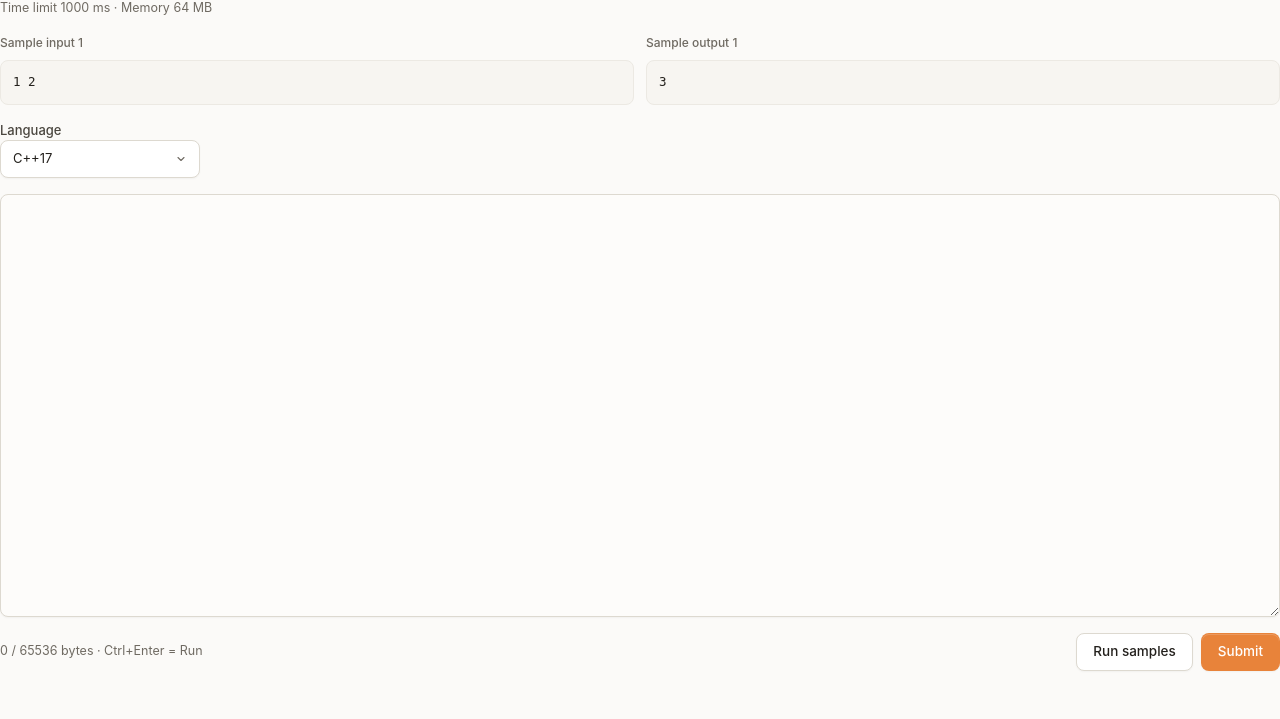
Scenario: CodingPane › empty code is blocked and API error is shown
Click the button "Run samples".
click(1135, 652)  # box [1076, 633, 1193, 671]
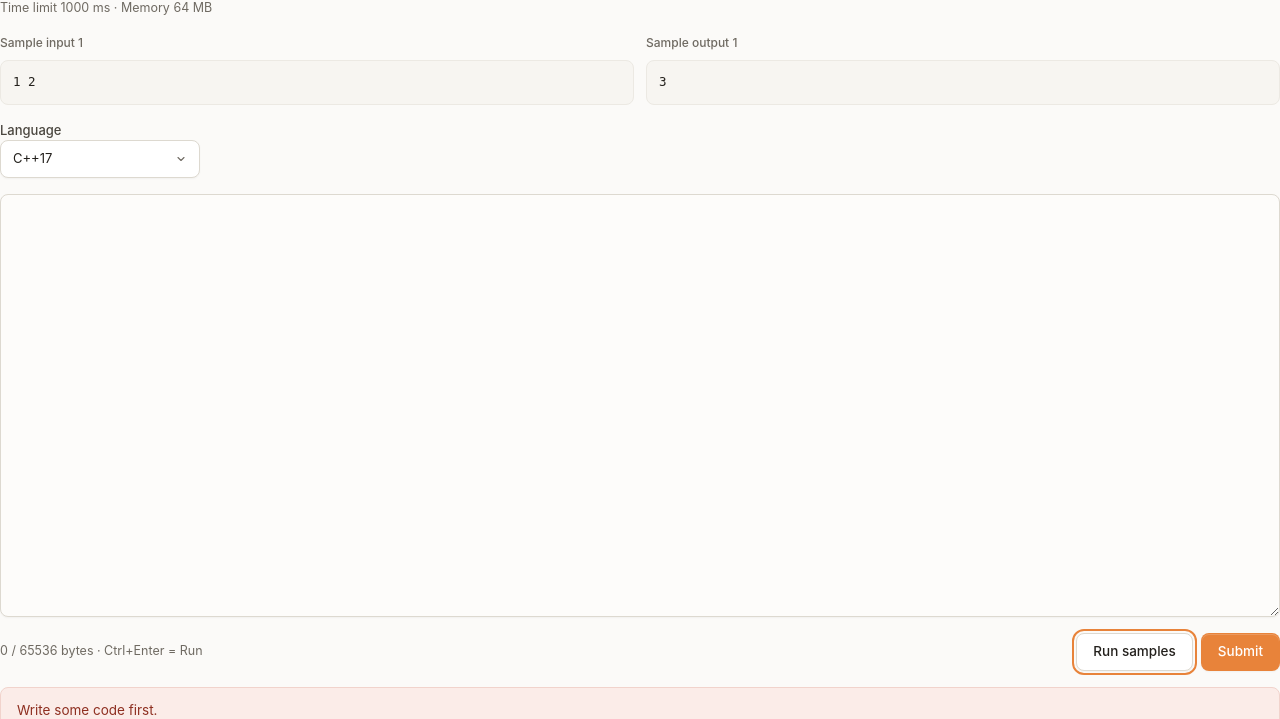
Check: the message shows "Write some code", box [17, 702, 158, 718]
Type "y" into the text box named "Code editor".
click(640, 405); type("y")  # box [0, 194, 1279, 617]
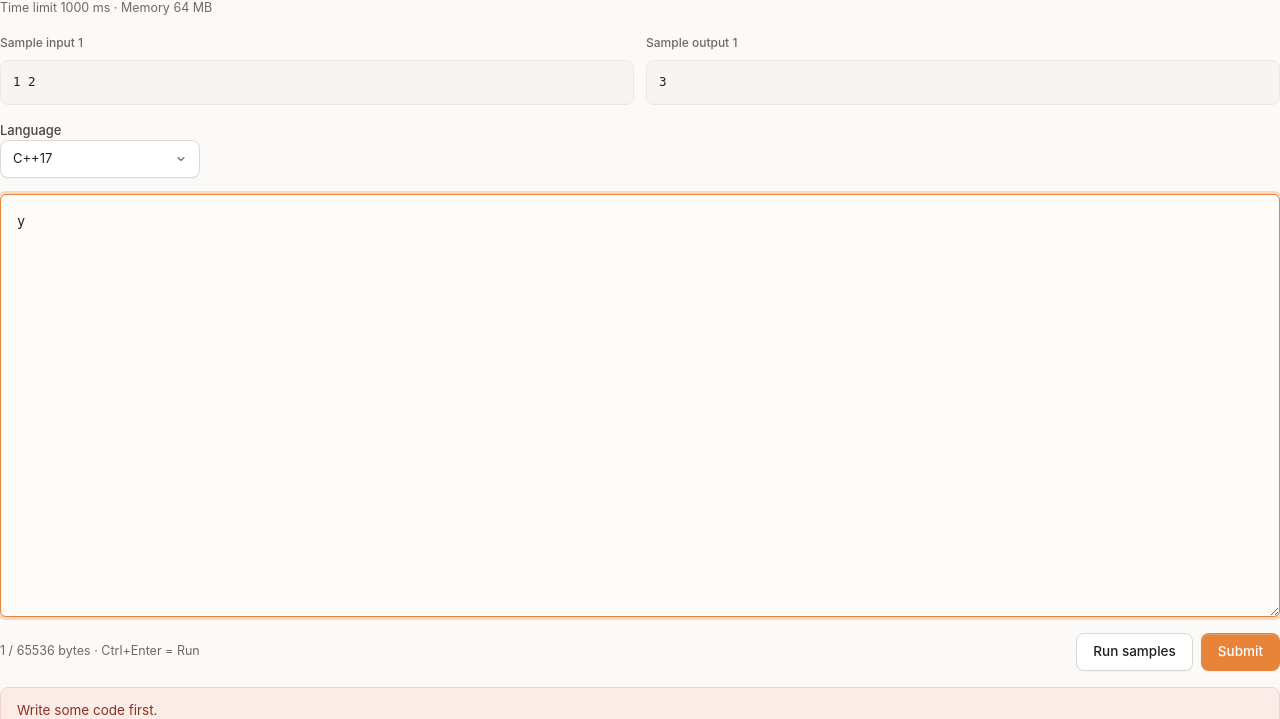
Click the button "Run samples".
click(1135, 652)  # box [1076, 633, 1193, 671]
(page scrolled)
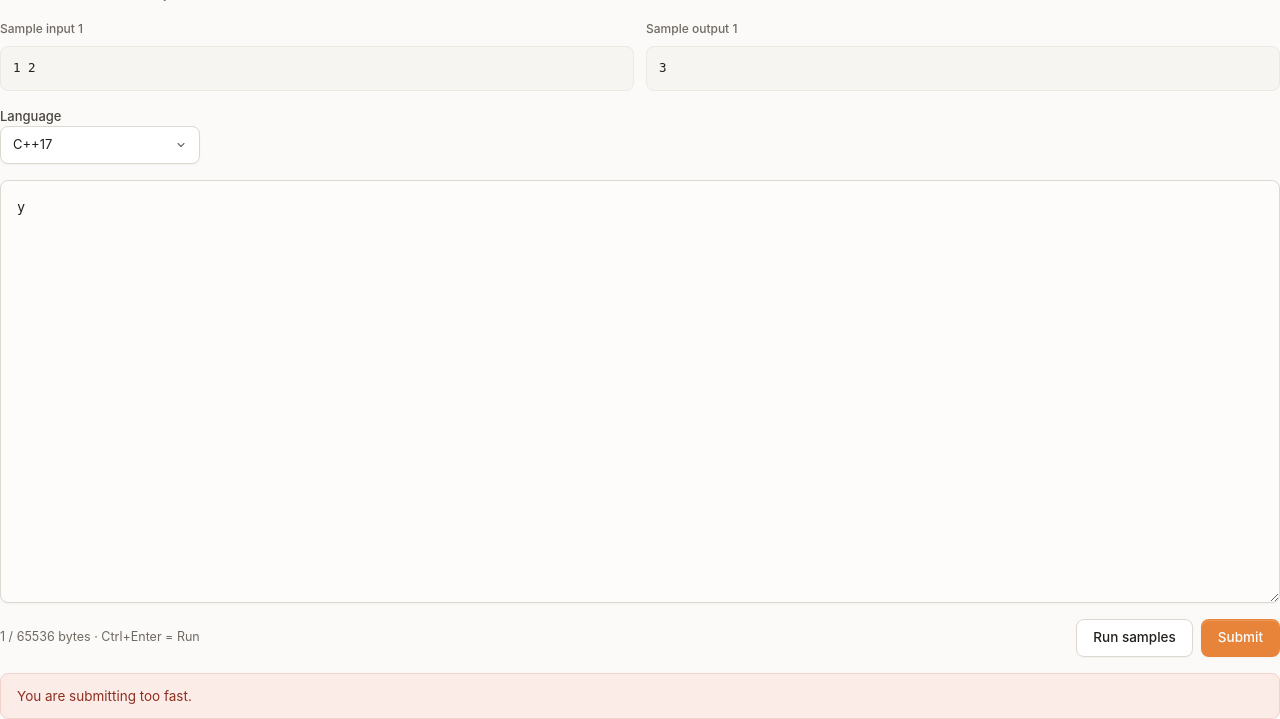
Check: the message shows "too fast", box [17, 688, 192, 704]
